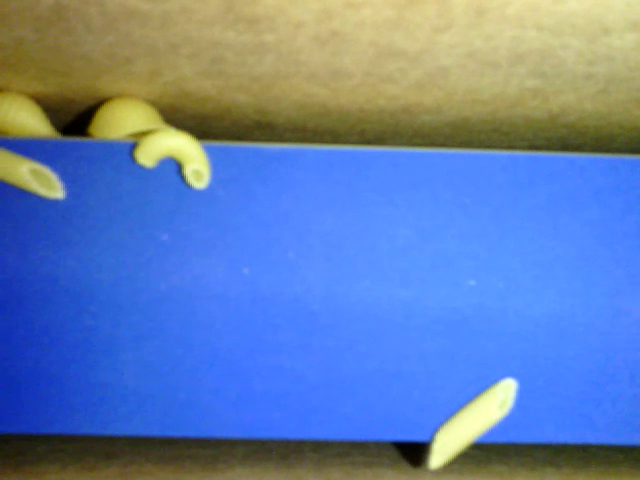elbow: (132, 124, 213, 188)
penne: (424, 376, 514, 467), (1, 149, 68, 200)
shell: (88, 94, 166, 142), (1, 89, 67, 139)
